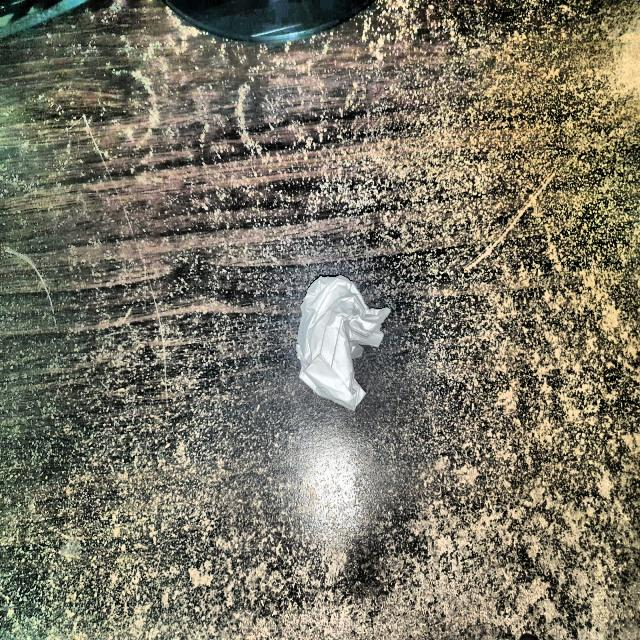Paper: (296, 271, 391, 413)
